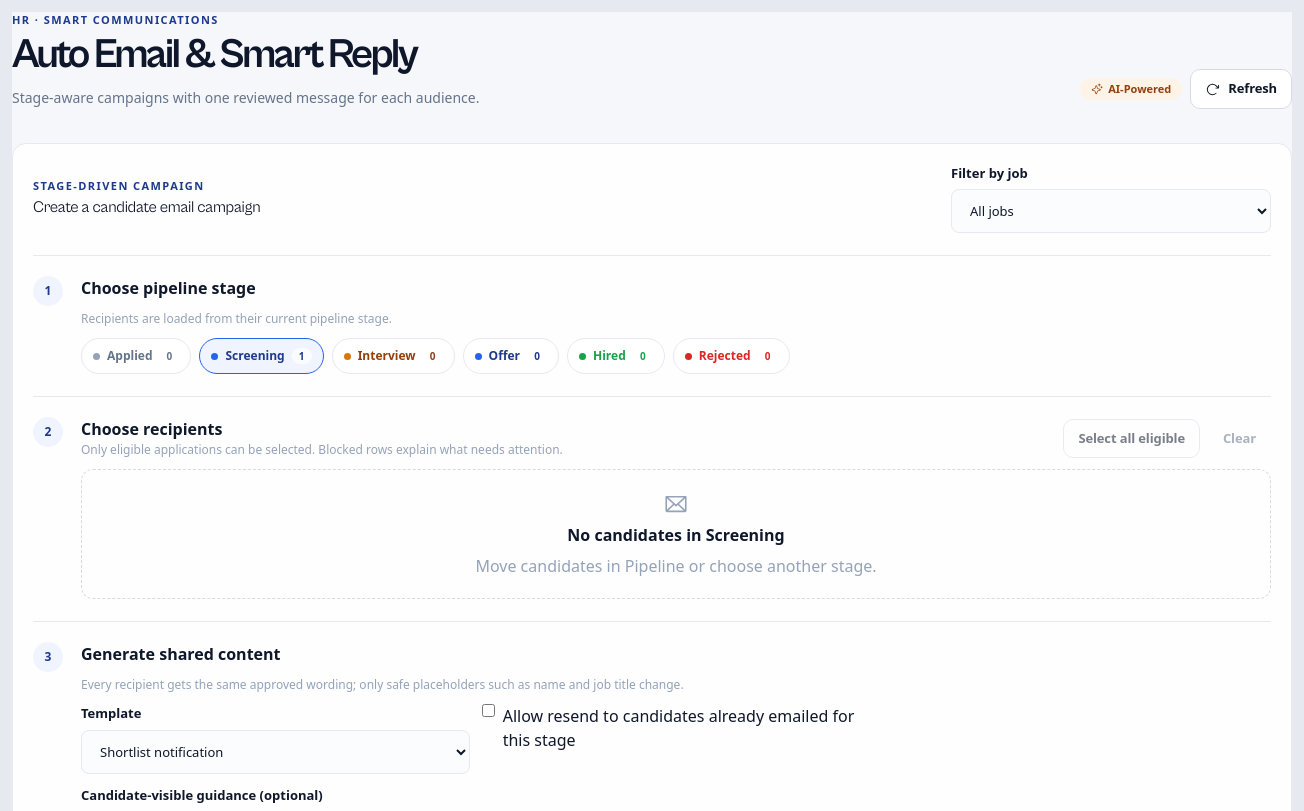
Test: AutoEmailScreen › loads the Rejected audience when HR selects that stage
The width and height of the screenshot is (1304, 811).
What coordinates should you click on to do the following:
click the button "Rejected 0"
I would click on:
 (731, 356)
Its box is left=673, top=338, right=790, bottom=374.
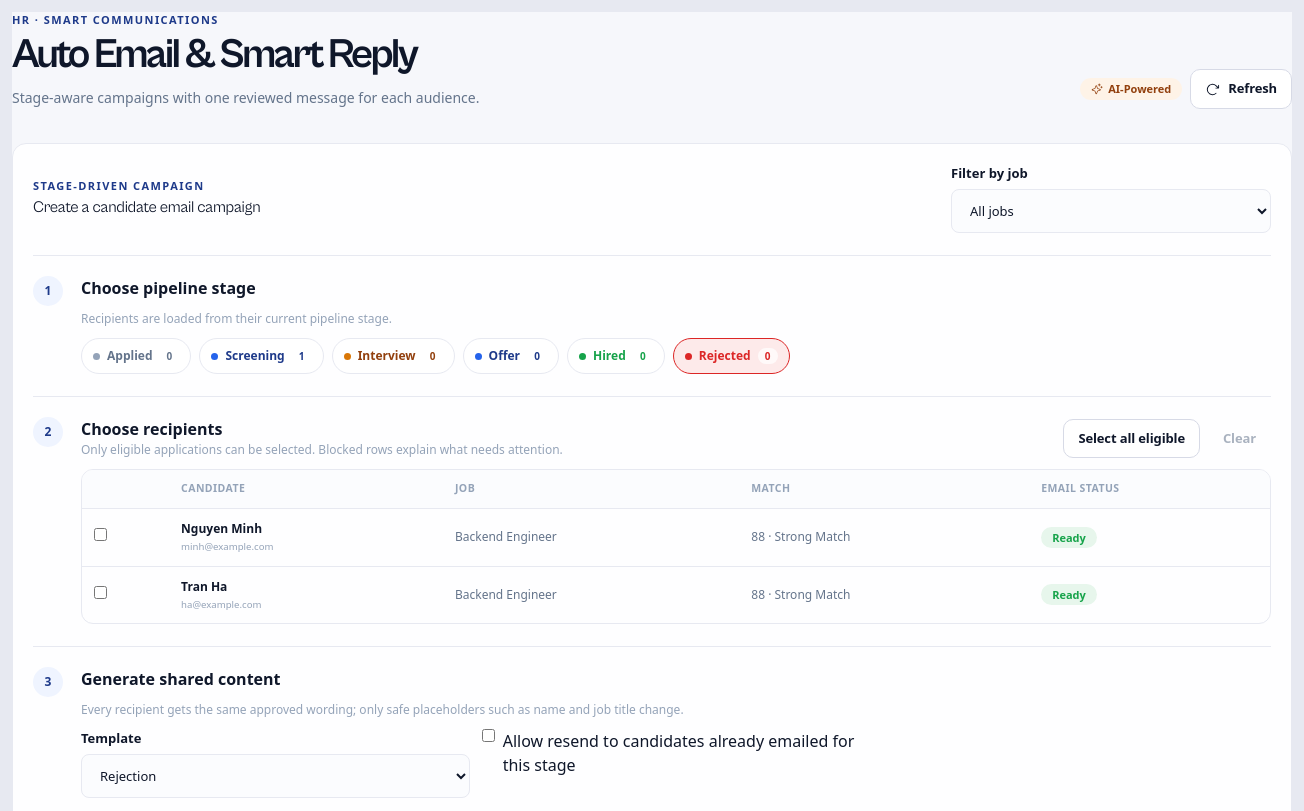
Expected: the text "Tran Ha" is shown, left=181, top=578, right=227, bottom=595
